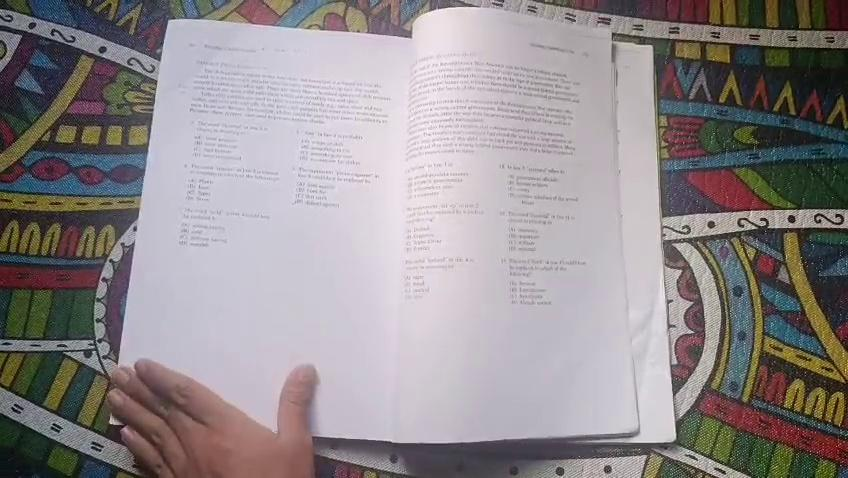Kertas: (409, 43, 637, 449), (170, 36, 405, 359)
